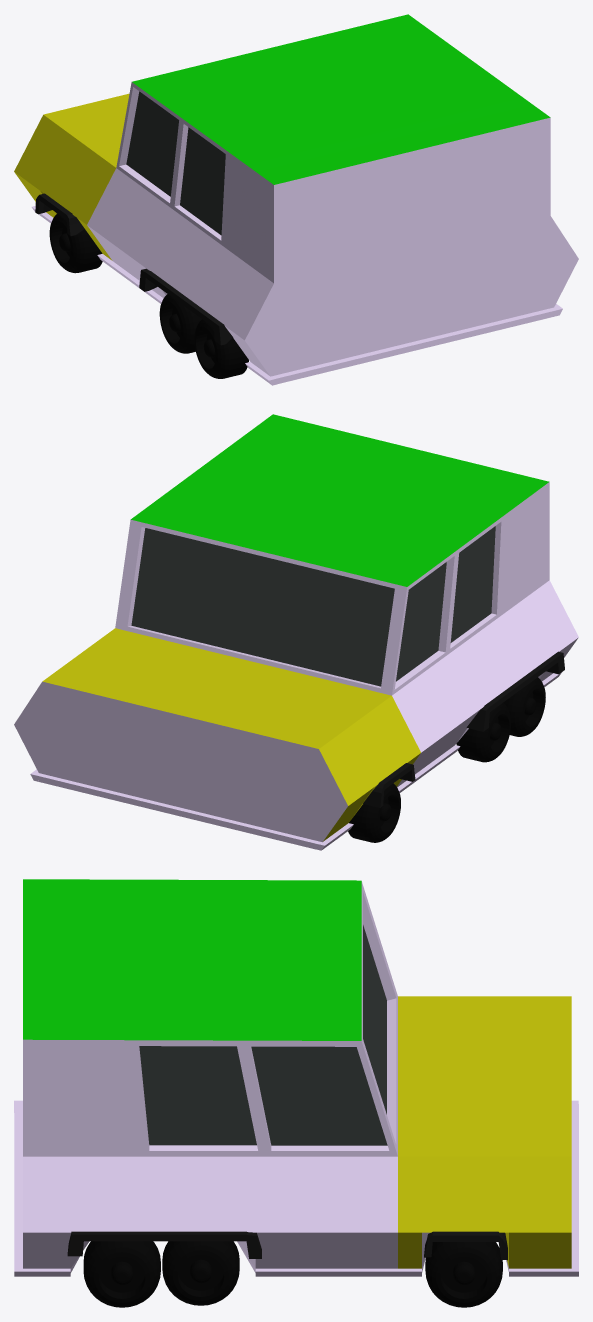
The model's file is car855246-2.obj.
3 renders of one model, top to bottom at view 1: azimuth 30°, elevation 25°; view 2: azimuth 150°, elevation 25°; view 3: azimuth 270°, elevation 25°, orthographic. The views are drawn at different scales.
Parts seen in each view (by area): view 1: Cube, Cylinder.003, Cylinder, Cylinder.002, Cube.002, Cube.001; view 2: Cube, Cylinder.002, Cylinder, Cylinder.003, Cube.002, Cube.001; view 3: Cube, Cylinder.005, Cylinder.004, Cylinder.001, Cube.003_Cube.004, Cube.001.
Boxes of the visible parts, x1,y1,x2,y2 form: Cube: [14, 14, 578, 385]; Cylinder.003: [194, 319, 248, 378]; Cylinder: [49, 213, 102, 273]; Cylinder.002: [159, 294, 201, 353]; Cube.002: [139, 268, 234, 345]; Cube.001: [35, 193, 85, 236]; Cube: [14, 414, 578, 850]; Cylinder.002: [456, 702, 511, 762]; Cylinder: [348, 783, 400, 842]; Cylinder.003: [503, 677, 545, 736]; Cube.002: [466, 651, 564, 731]; Cube.001: [363, 763, 415, 807]; Cube: [14, 879, 578, 1276]; Cylinder.005: [83, 1241, 160, 1307]; Cylinder.004: [162, 1241, 239, 1305]; Cylinder.001: [425, 1242, 502, 1307]; Cube.003_Cube.004: [67, 1231, 261, 1258]; Cube.001: [424, 1231, 507, 1260].
Bounding box in the file's own units: 7.4 × 4.45 × 8.78.
